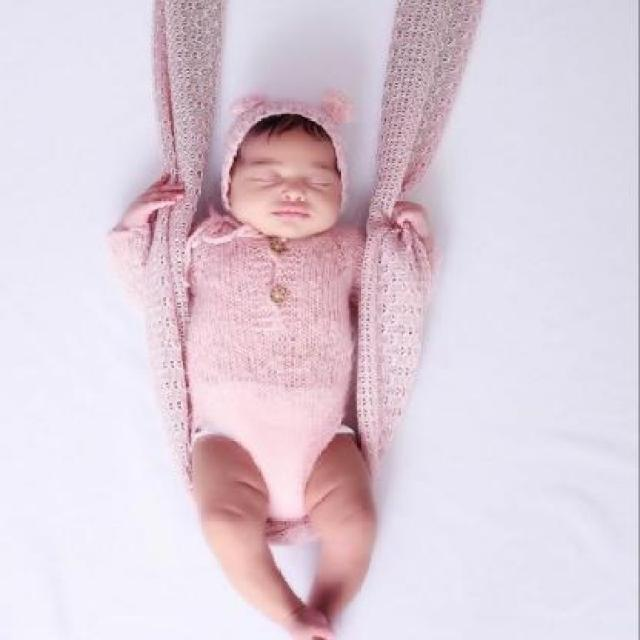baby: (106, 86, 429, 639)
